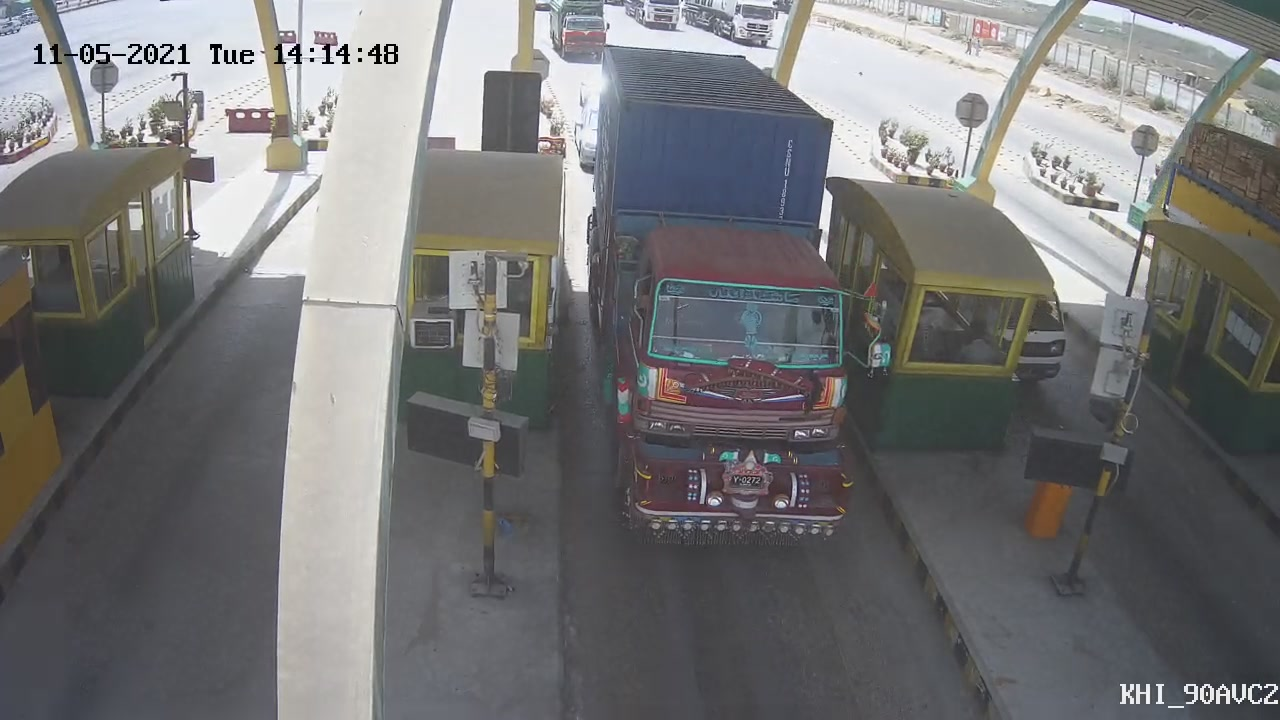F6: (596, 45, 859, 549)
